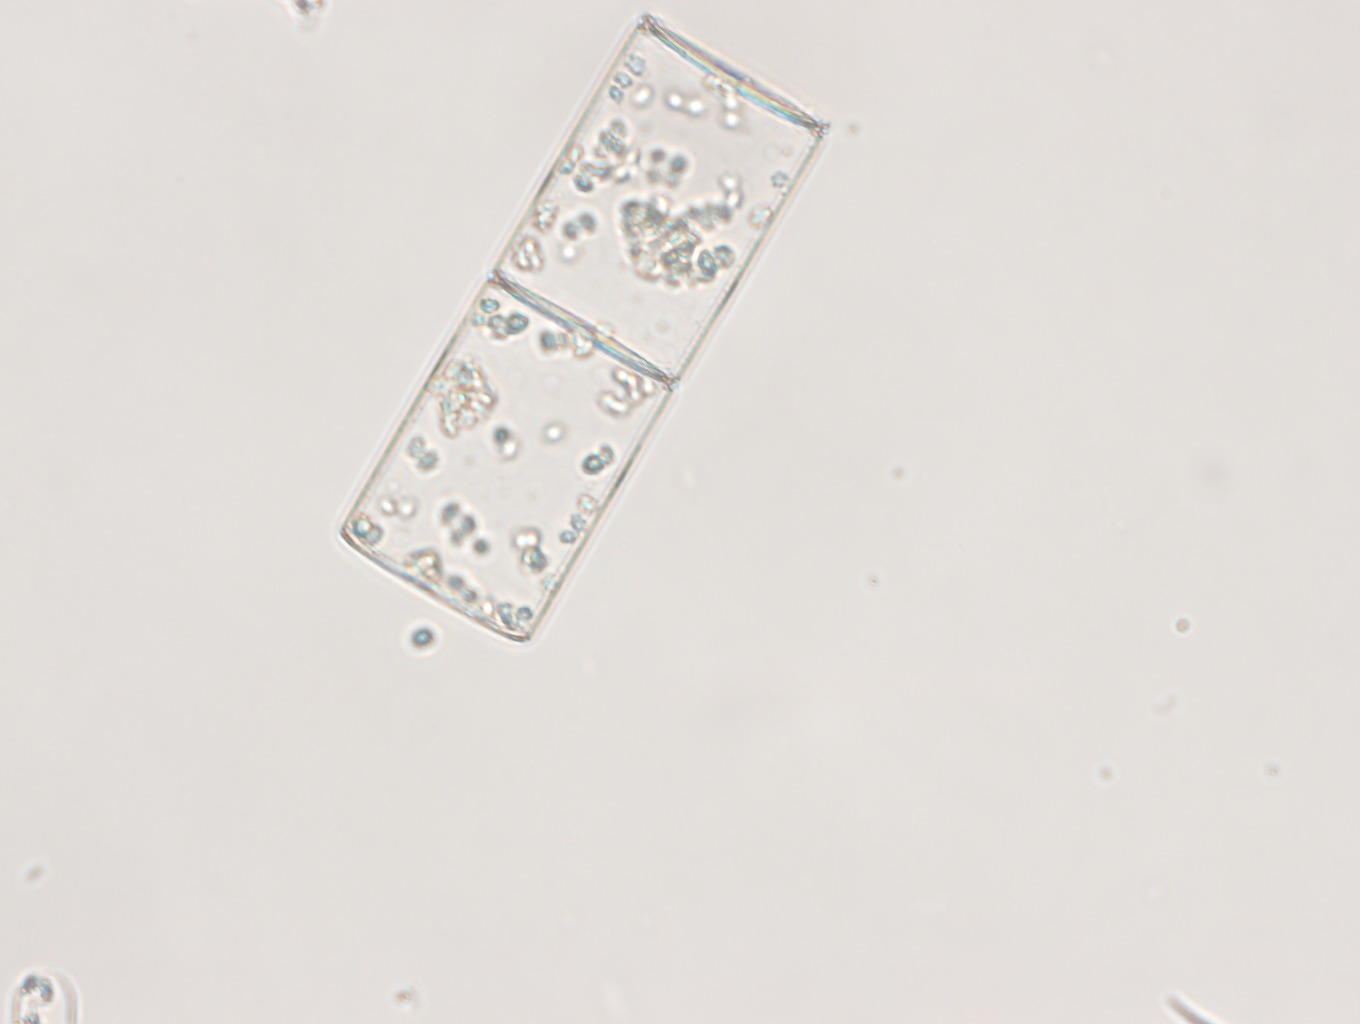guinardia flaccida: (317, 11, 834, 648)
